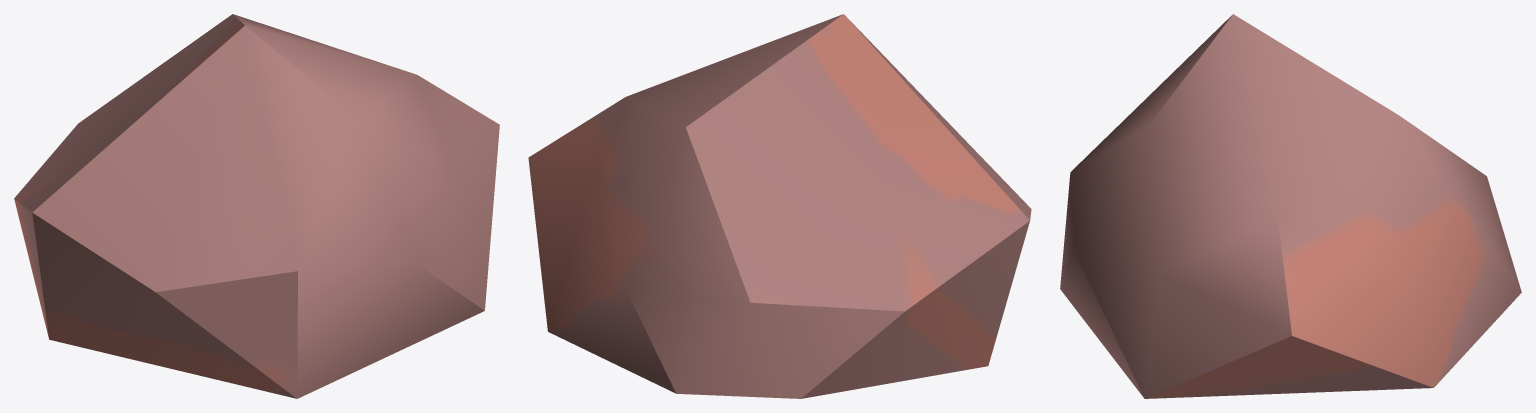
Rendered from Niobio.fbx.
3 views of the same model, side by side, from view 1: azimuth 30°, elevation 25°; view 2: azimuth 150°, elevation 25°; view 3: azimuth 270°, elevation 25° (orthographic). The views are drawn at different scales.
Visible parts, largest first — view 1: Minerio_Niobio; view 2: Minerio_Niobio; view 3: Minerio_Niobio.
Boxes of the visible parts, x1,y1,x2,y2 form: Minerio_Niobio: (14,14,499,398); Minerio_Niobio: (528,14,1031,398); Minerio_Niobio: (1060,14,1521,398).
Bounding box in the file's own units: 223 × 132 × 189.
